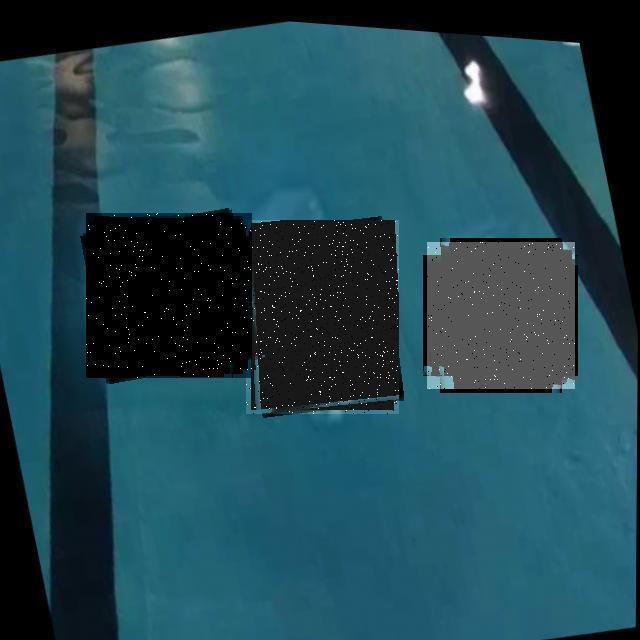swimming: (246, 220, 399, 414), (86, 213, 252, 378), (427, 242, 575, 389)
